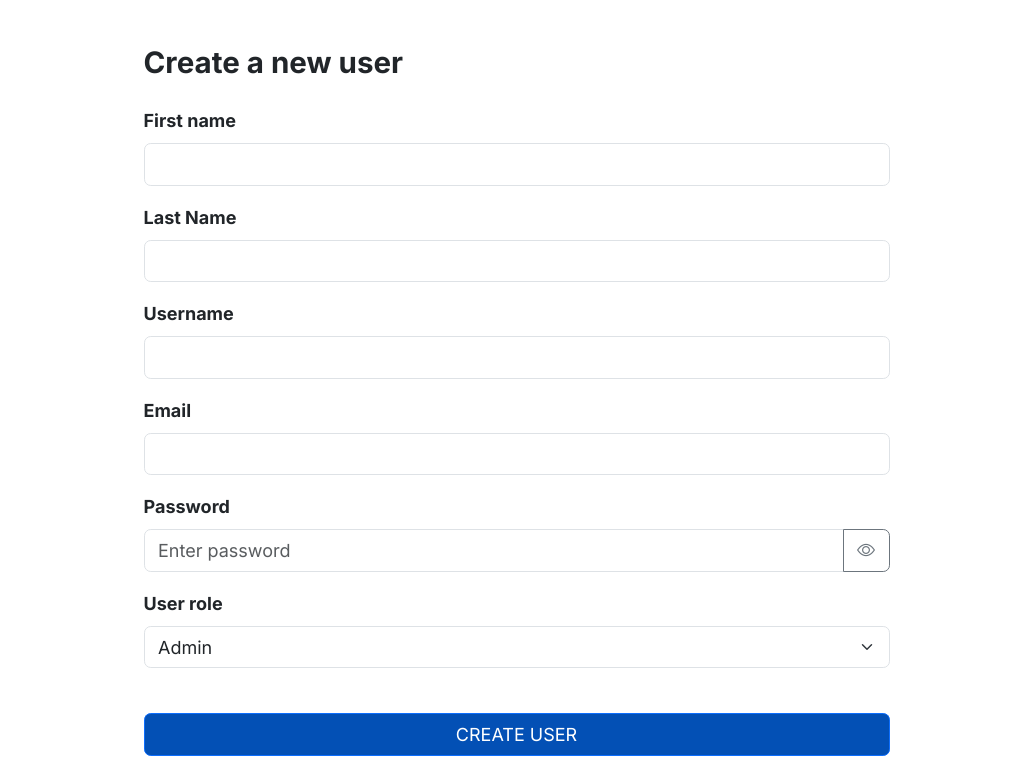
Test: UserCreation page (Vitest) › shows success message and navigates to user-list on successful user creation
Expected: the dropdown is shown, [144,626,890,668]
# Fill in form fields
Type "John" into the field labelled "First name".
click(516, 165); type("John")  # box [144,144,890,186]
Type "Doe" into the field labelled "Last Name".
click(516, 261); type("Doe")  # box [144,240,890,282]
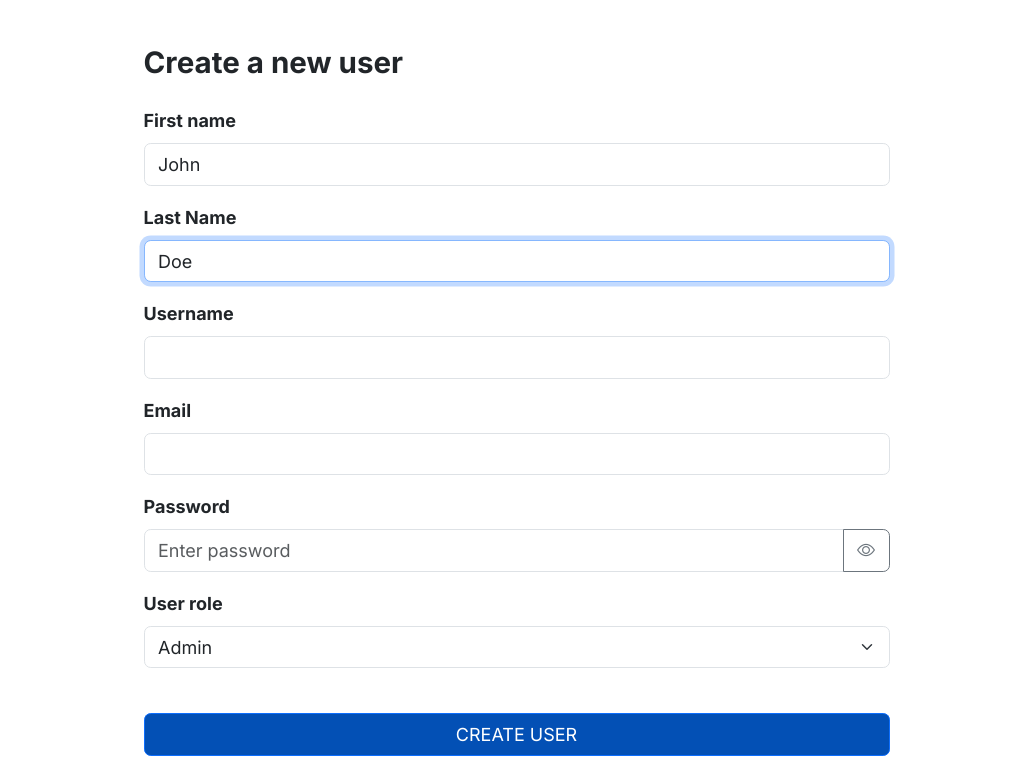
Type "johndoe" into the field labelled "Username".
click(516, 358); type("johndoe")  # box [144,336,890,379]
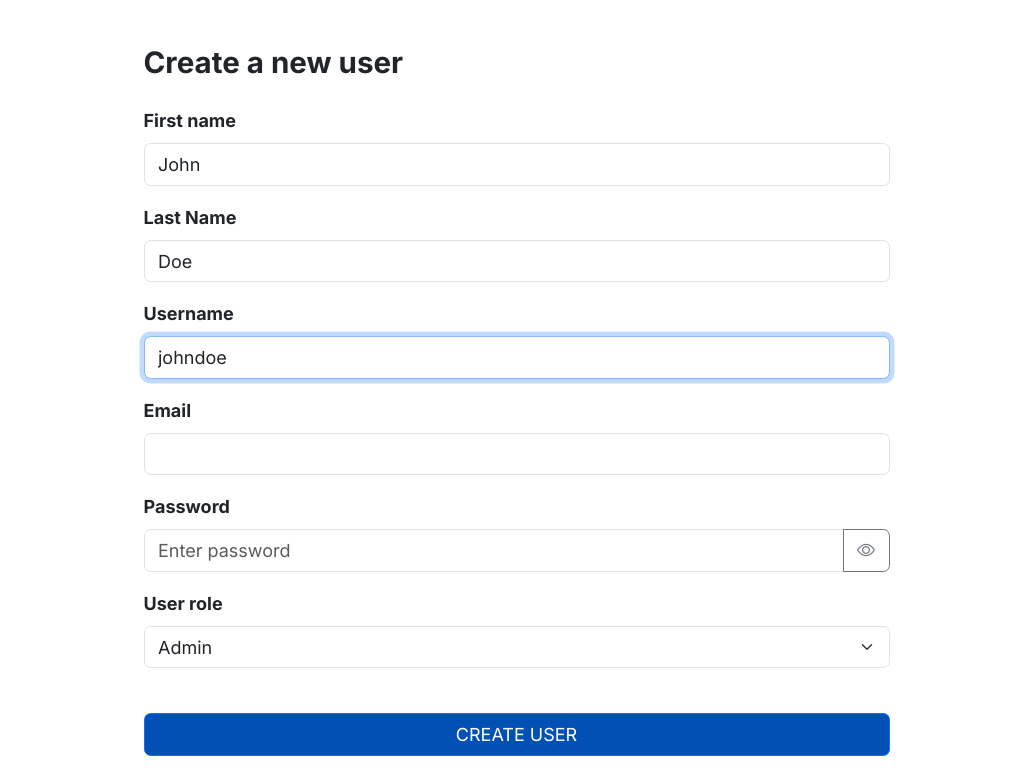
Type "john@example.com" into the field labelled "Email".
click(516, 454); type("john@example.com")  # box [144,433,890,476]
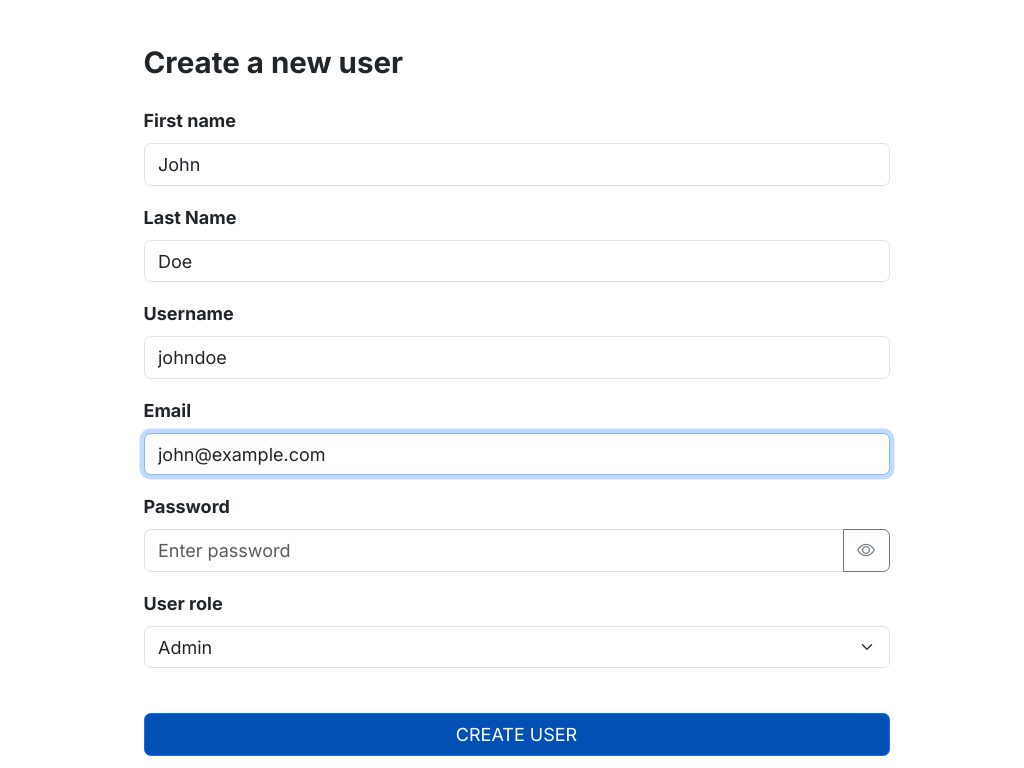
Type "password123" into the password field with placeholder "Enter password".
click(494, 551); type("password123")  # box [144,530,844,572]
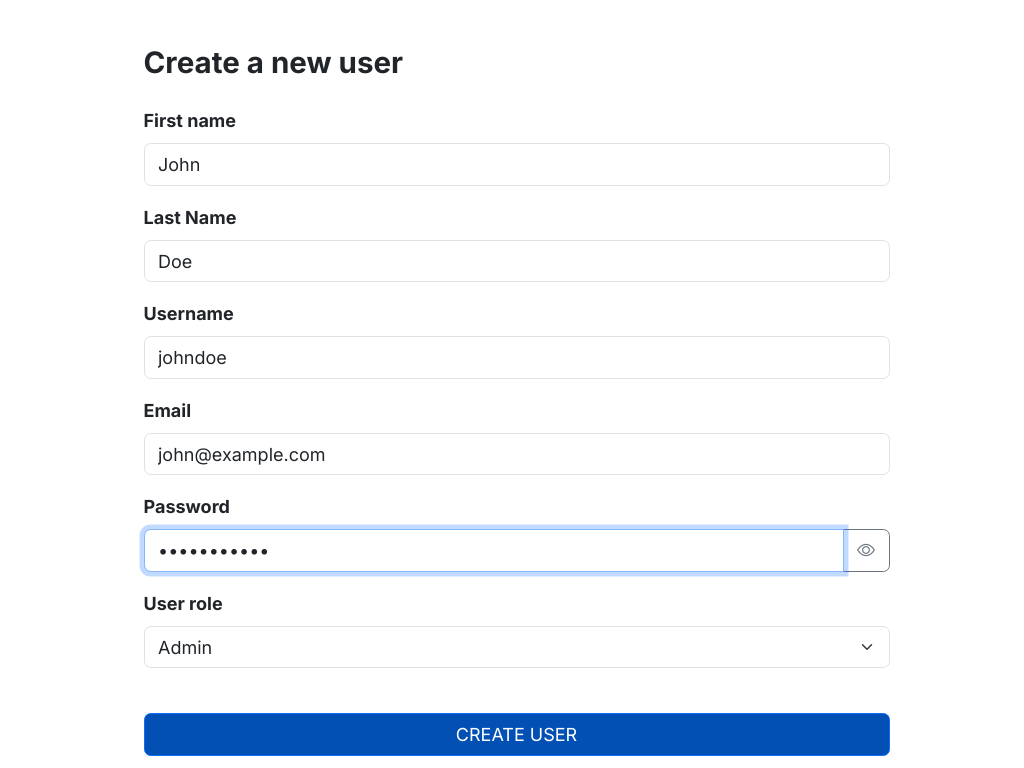
# Select a role
Select "Admin" in the dropdown at (516, 647), box [144,626,890,668]
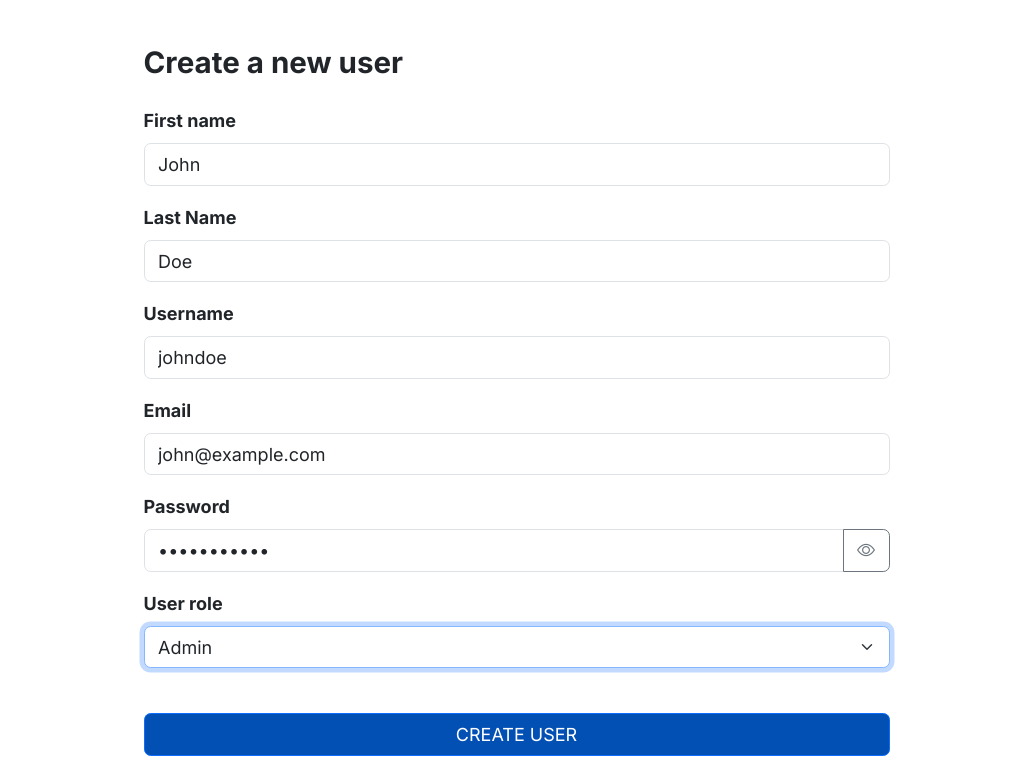
# Submit form
Click the button "CREATE USER".
click(516, 735)  # box [144,714,890,756]
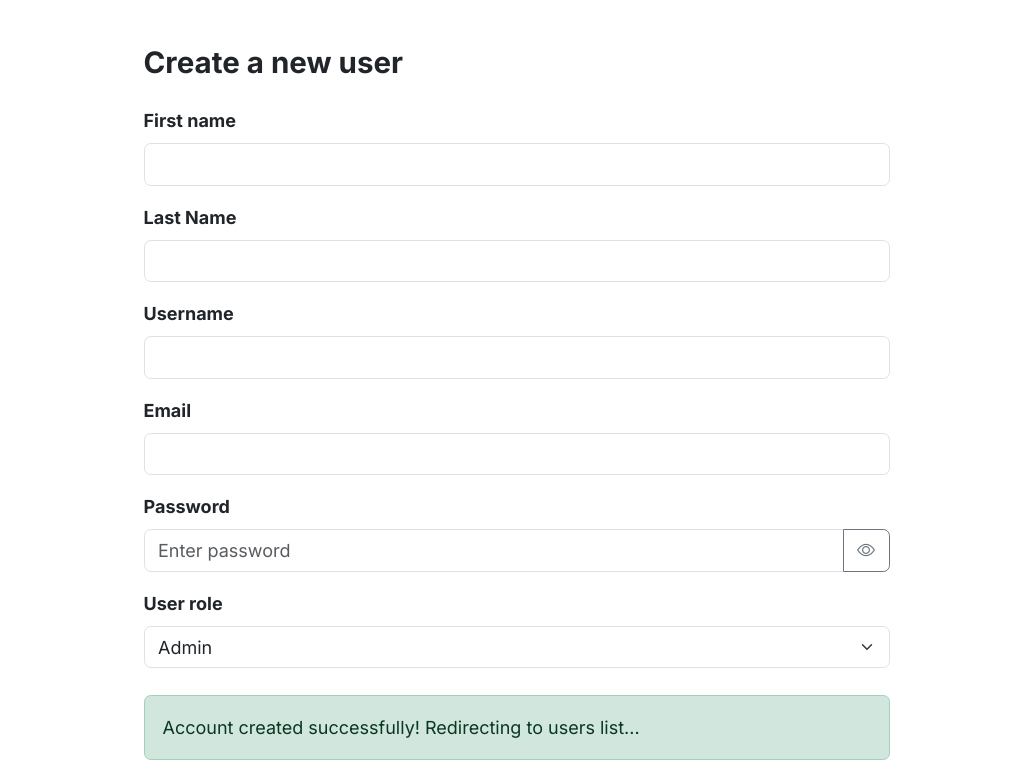
Now the text "Account created successfully! Redirecting to users list..." is shown, box [144,696,890,760]
